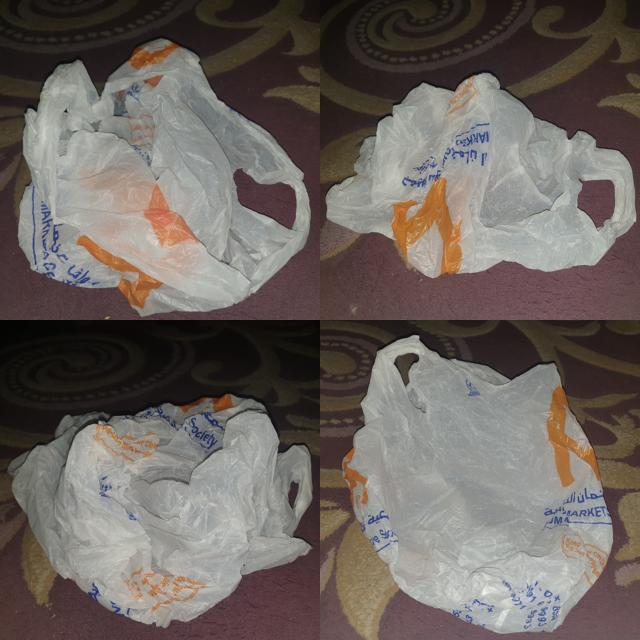Single-layer Plastic: (18, 39, 310, 316), (342, 335, 612, 633), (9, 395, 312, 626), (326, 74, 635, 278)
